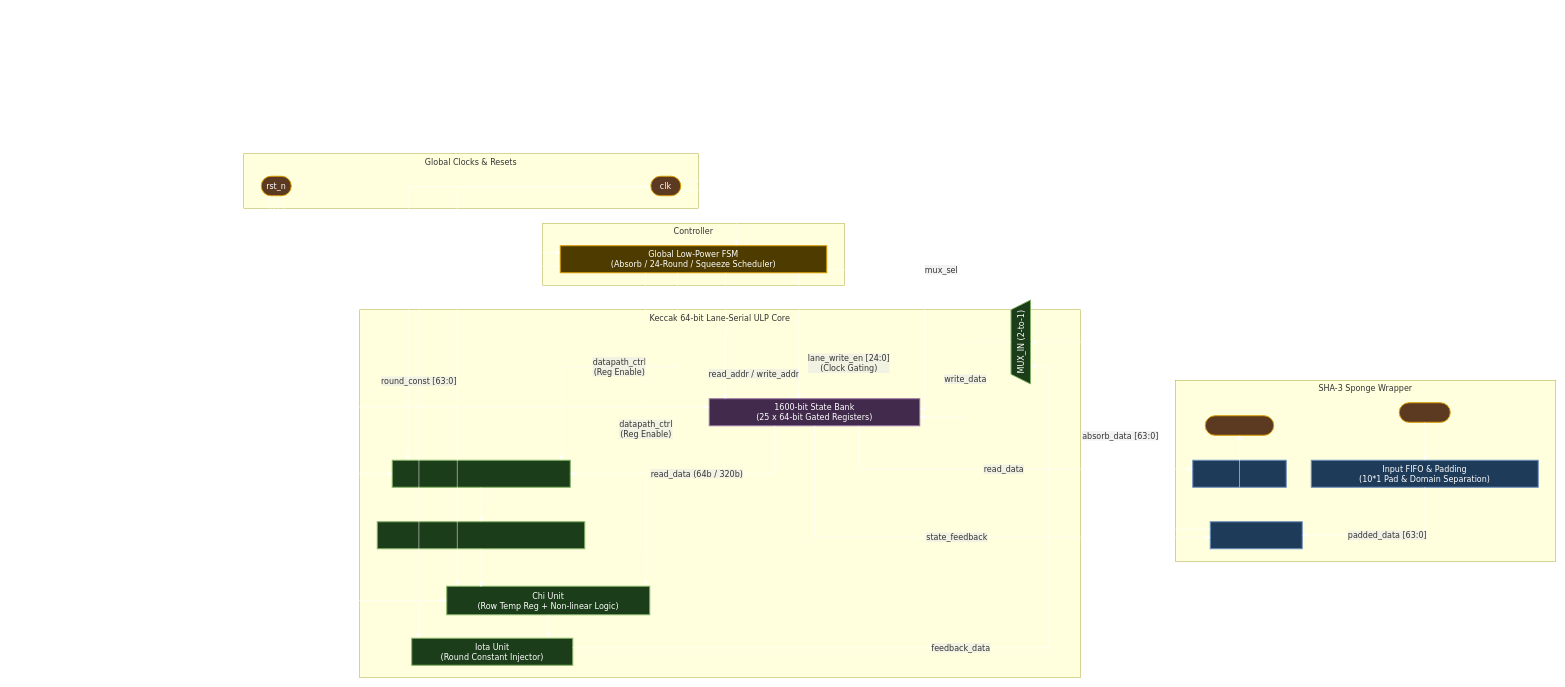
Image size: 1565x687. Some labels were removed from this diagram. Each missing label, with the centre of its shape:
Absorb XOR Logic: point 1256,535
Hash Result Out: point 1239,425
Output Formatter: point 1239,474
Raw Msg In: point 1424,412
Rho/Pi Unit (Fixed Wire Rotation & Remap MUX): point 480,535
Theta Unit (Parity XOR Tree + C/D Regs): point 481,474
